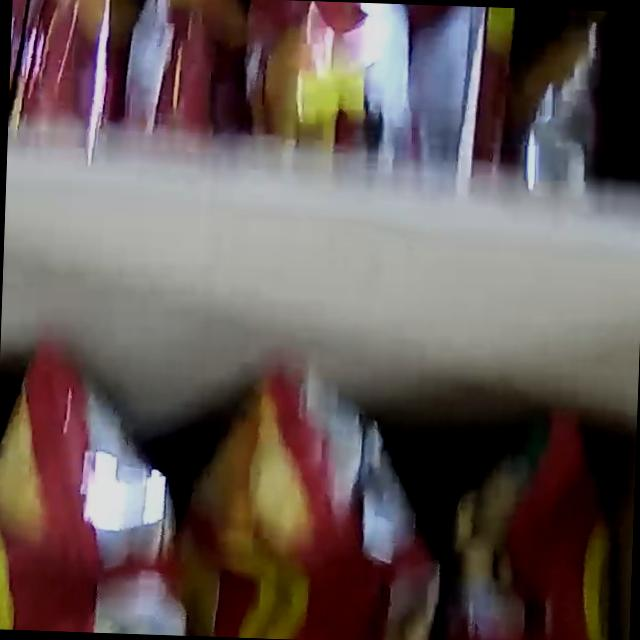masala: (0, 321, 625, 640), (6, 0, 640, 176)
